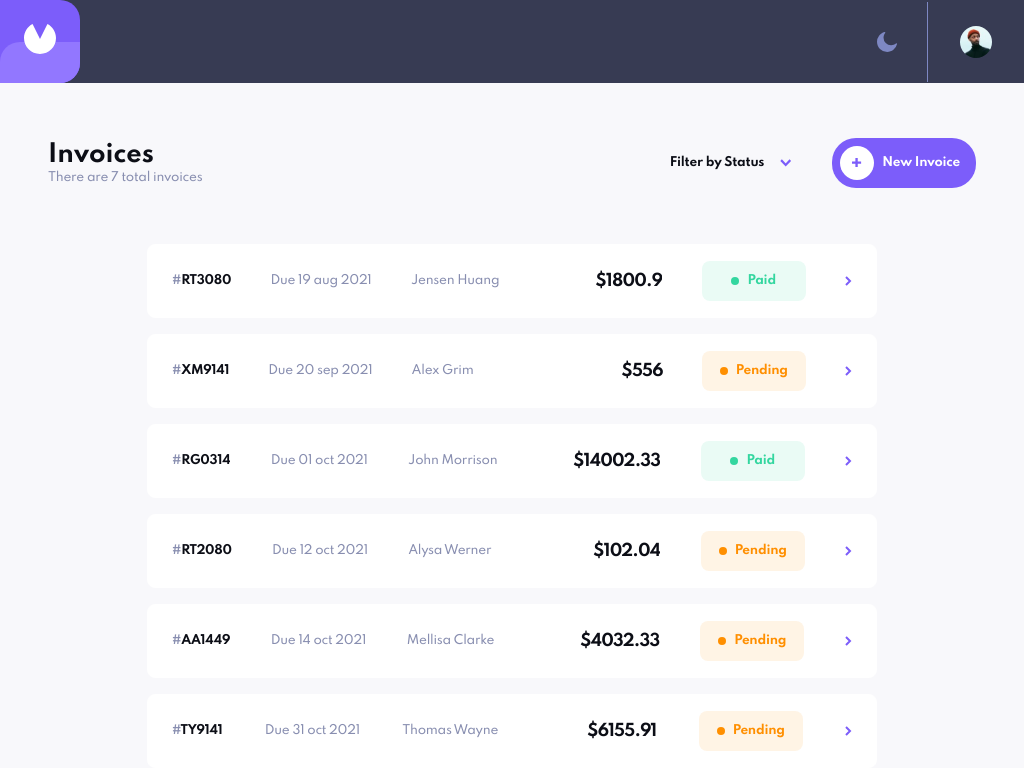
Test: Testing InvoiceForm component › Testing InvoiceForm component to create a new invoice › Contains a "Discard" button that closes the form when clicked
Click the button with test id "new-invoice-button". click: point(904, 163)
box: [832,138,976,188]
(page scrolled)
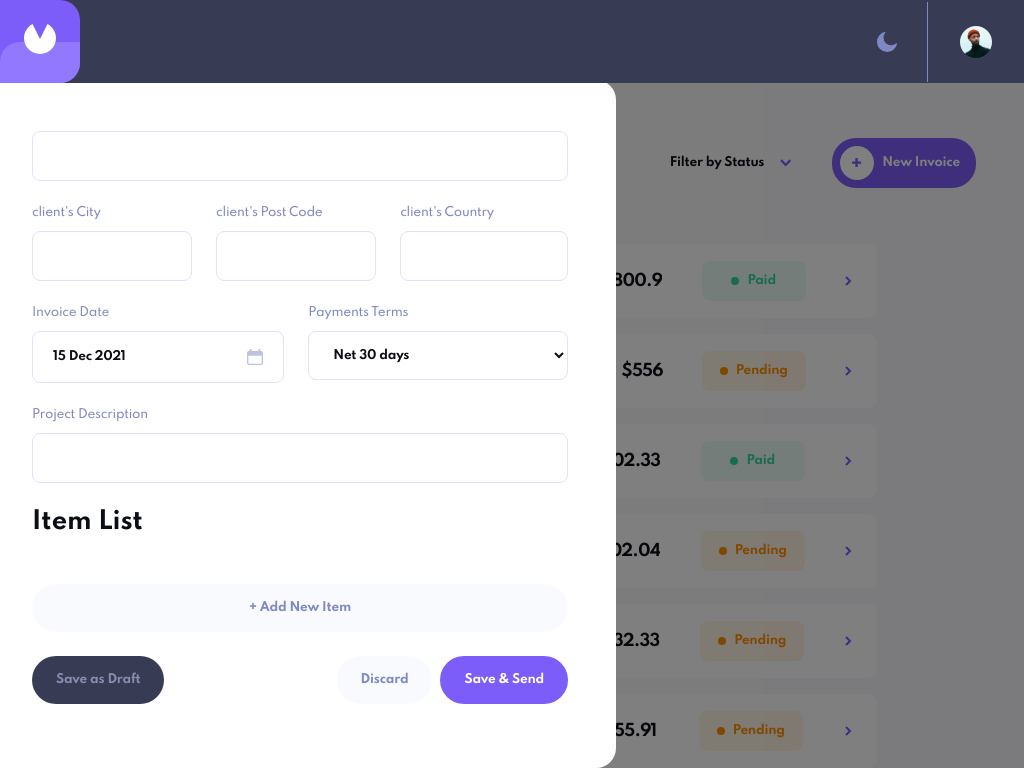
Check: the button "Discard" is shown
Click the button "Discard". click: point(385, 680)
box: [337,656,432,704]
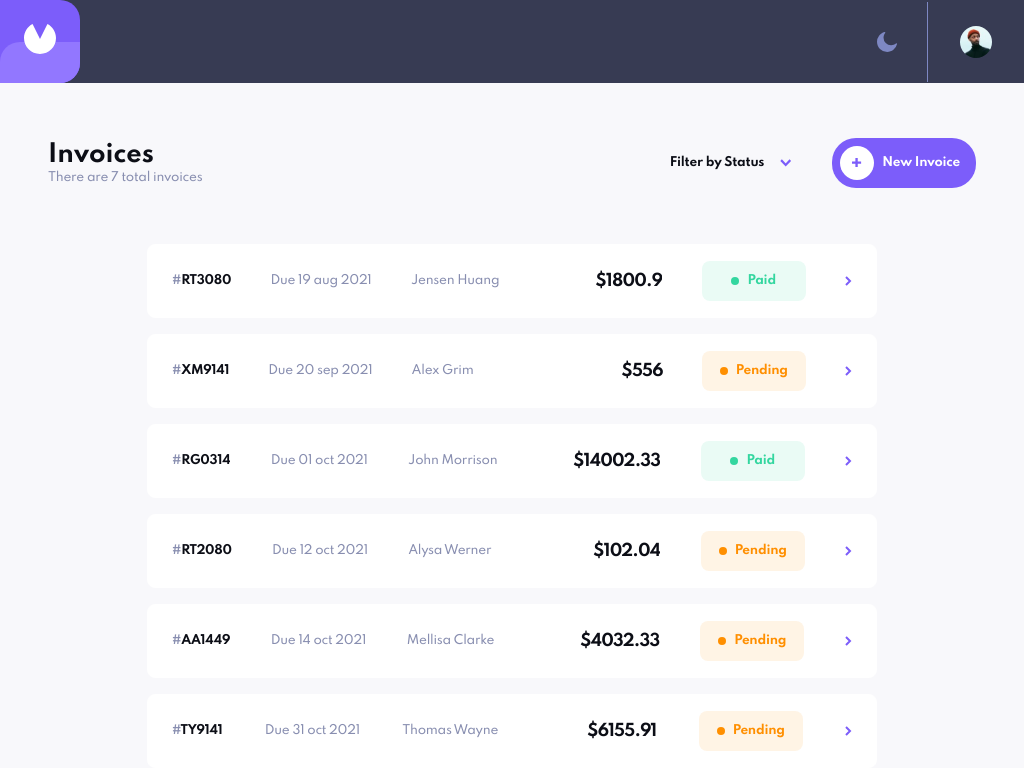
Check: the element with test id "invoice-form" is gone
